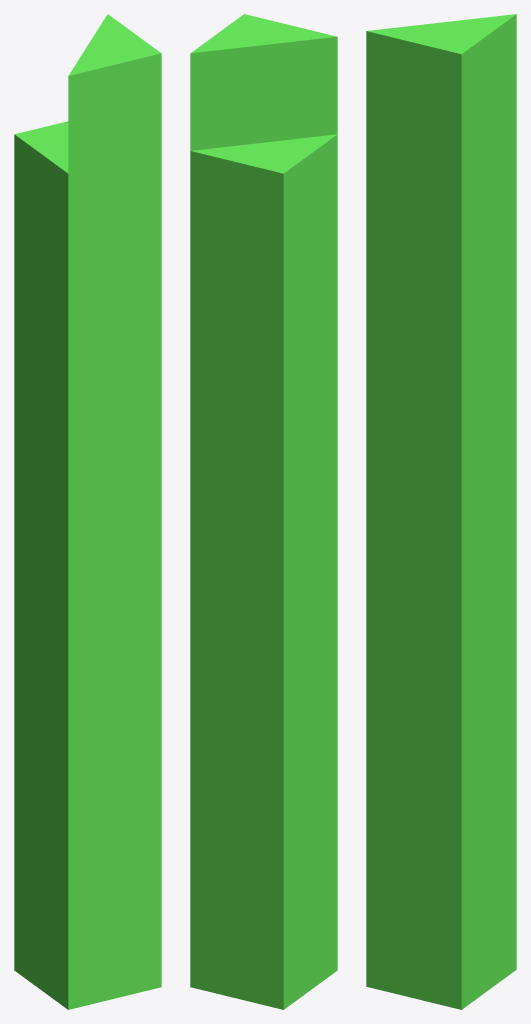
File: ModuleAssymbly_12 1.obj
The picture shows the model from 3 angles, left to right: view 1: azimuth 30°, elevation 25°; view 2: azimuth 150°, elevation 25°; view 3: azimuth 330°, elevation 25°; orthographic projection. The views are drawn at different scales.
Parts seen in each view (by area): view 1: object_2, object_1; view 2: object_2, object_1; view 3: object_2, object_1.
Boxes of the visible parts, x1,y1,x2,y2 form: object_2: (14,121,161,1009); object_1: (68,14,161,173); object_2: (190,134,337,1009); object_1: (190,14,337,150); object_2: (366,114,516,1009); object_1: (366,14,516,153).
Size of the model in its own units: 0.035 by 0.335 by 0.035.
